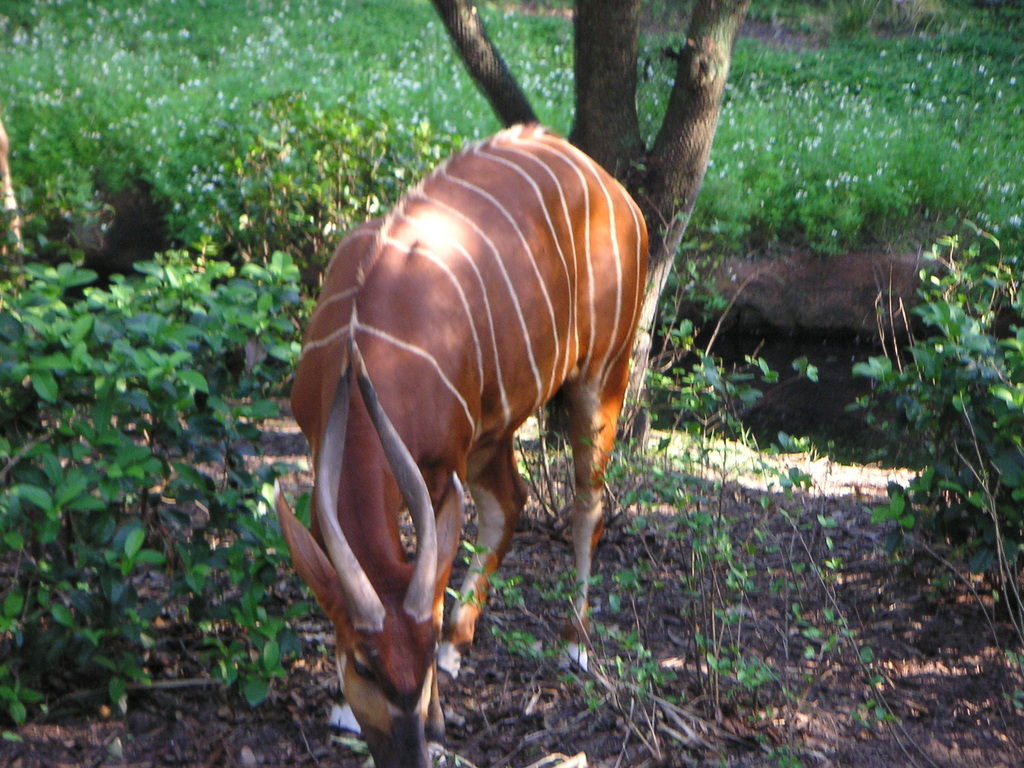Tree: (429, 0, 751, 444)
